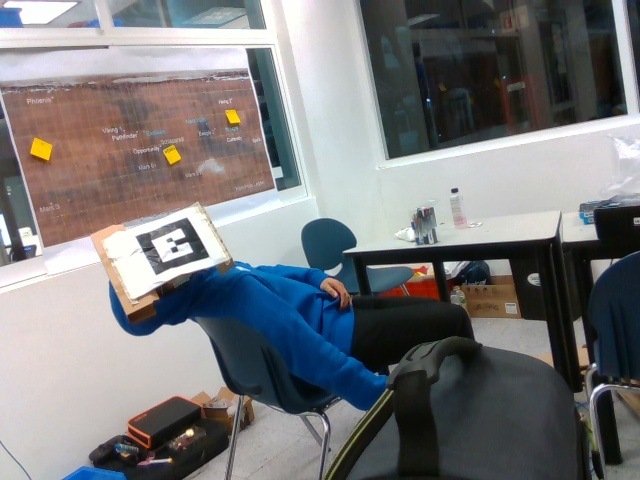ar1: (134, 211, 215, 281)
